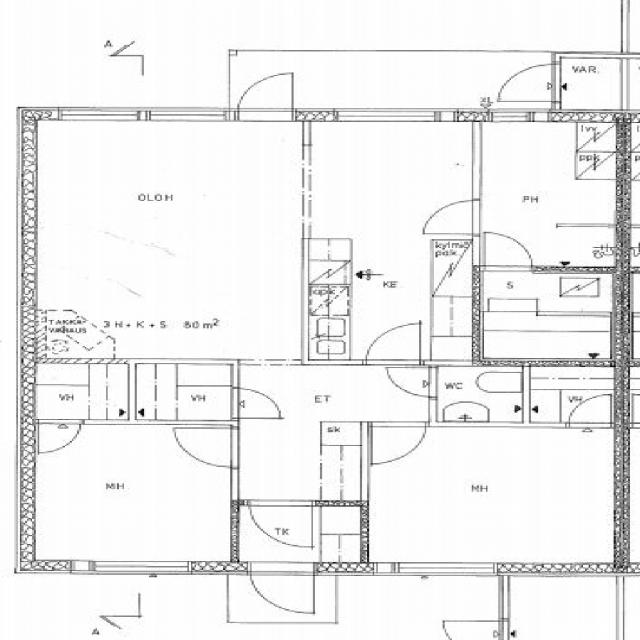door: (251, 561, 313, 618), (250, 500, 312, 548), (239, 71, 293, 122), (172, 428, 239, 468), (496, 64, 562, 101), (366, 323, 420, 366), (373, 422, 425, 463), (425, 200, 479, 233), (483, 234, 530, 271), (230, 388, 282, 418), (38, 420, 80, 453), (388, 368, 437, 396), (570, 394, 610, 427), (443, 621, 510, 640)
